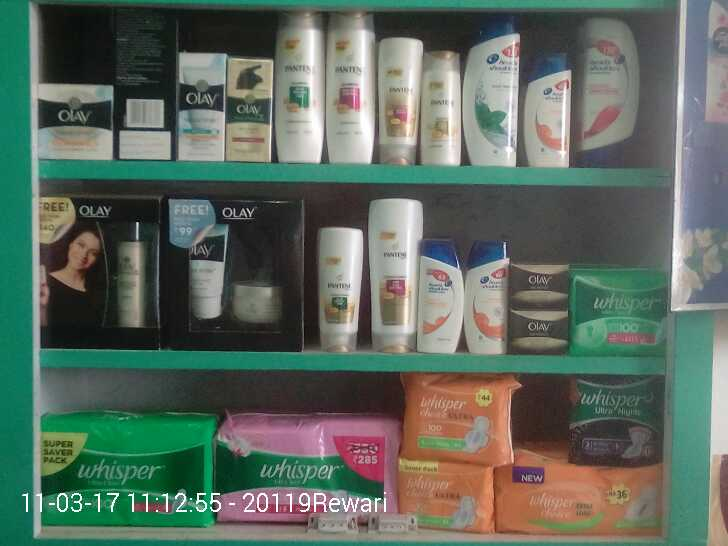beauty: (165, 192, 311, 362), (36, 194, 152, 339), (579, 18, 648, 169), (460, 14, 525, 171), (324, 4, 375, 166), (364, 194, 413, 349), (276, 7, 323, 162), (418, 236, 469, 365), (309, 223, 359, 351), (171, 53, 229, 160), (30, 84, 108, 161), (373, 38, 421, 162), (527, 48, 573, 171), (463, 244, 507, 356), (229, 57, 273, 164), (422, 50, 461, 165), (503, 261, 567, 307), (504, 314, 571, 354)
pharmacy: (208, 410, 403, 523), (37, 405, 209, 523), (396, 372, 515, 465), (570, 368, 665, 474), (571, 267, 664, 364)
